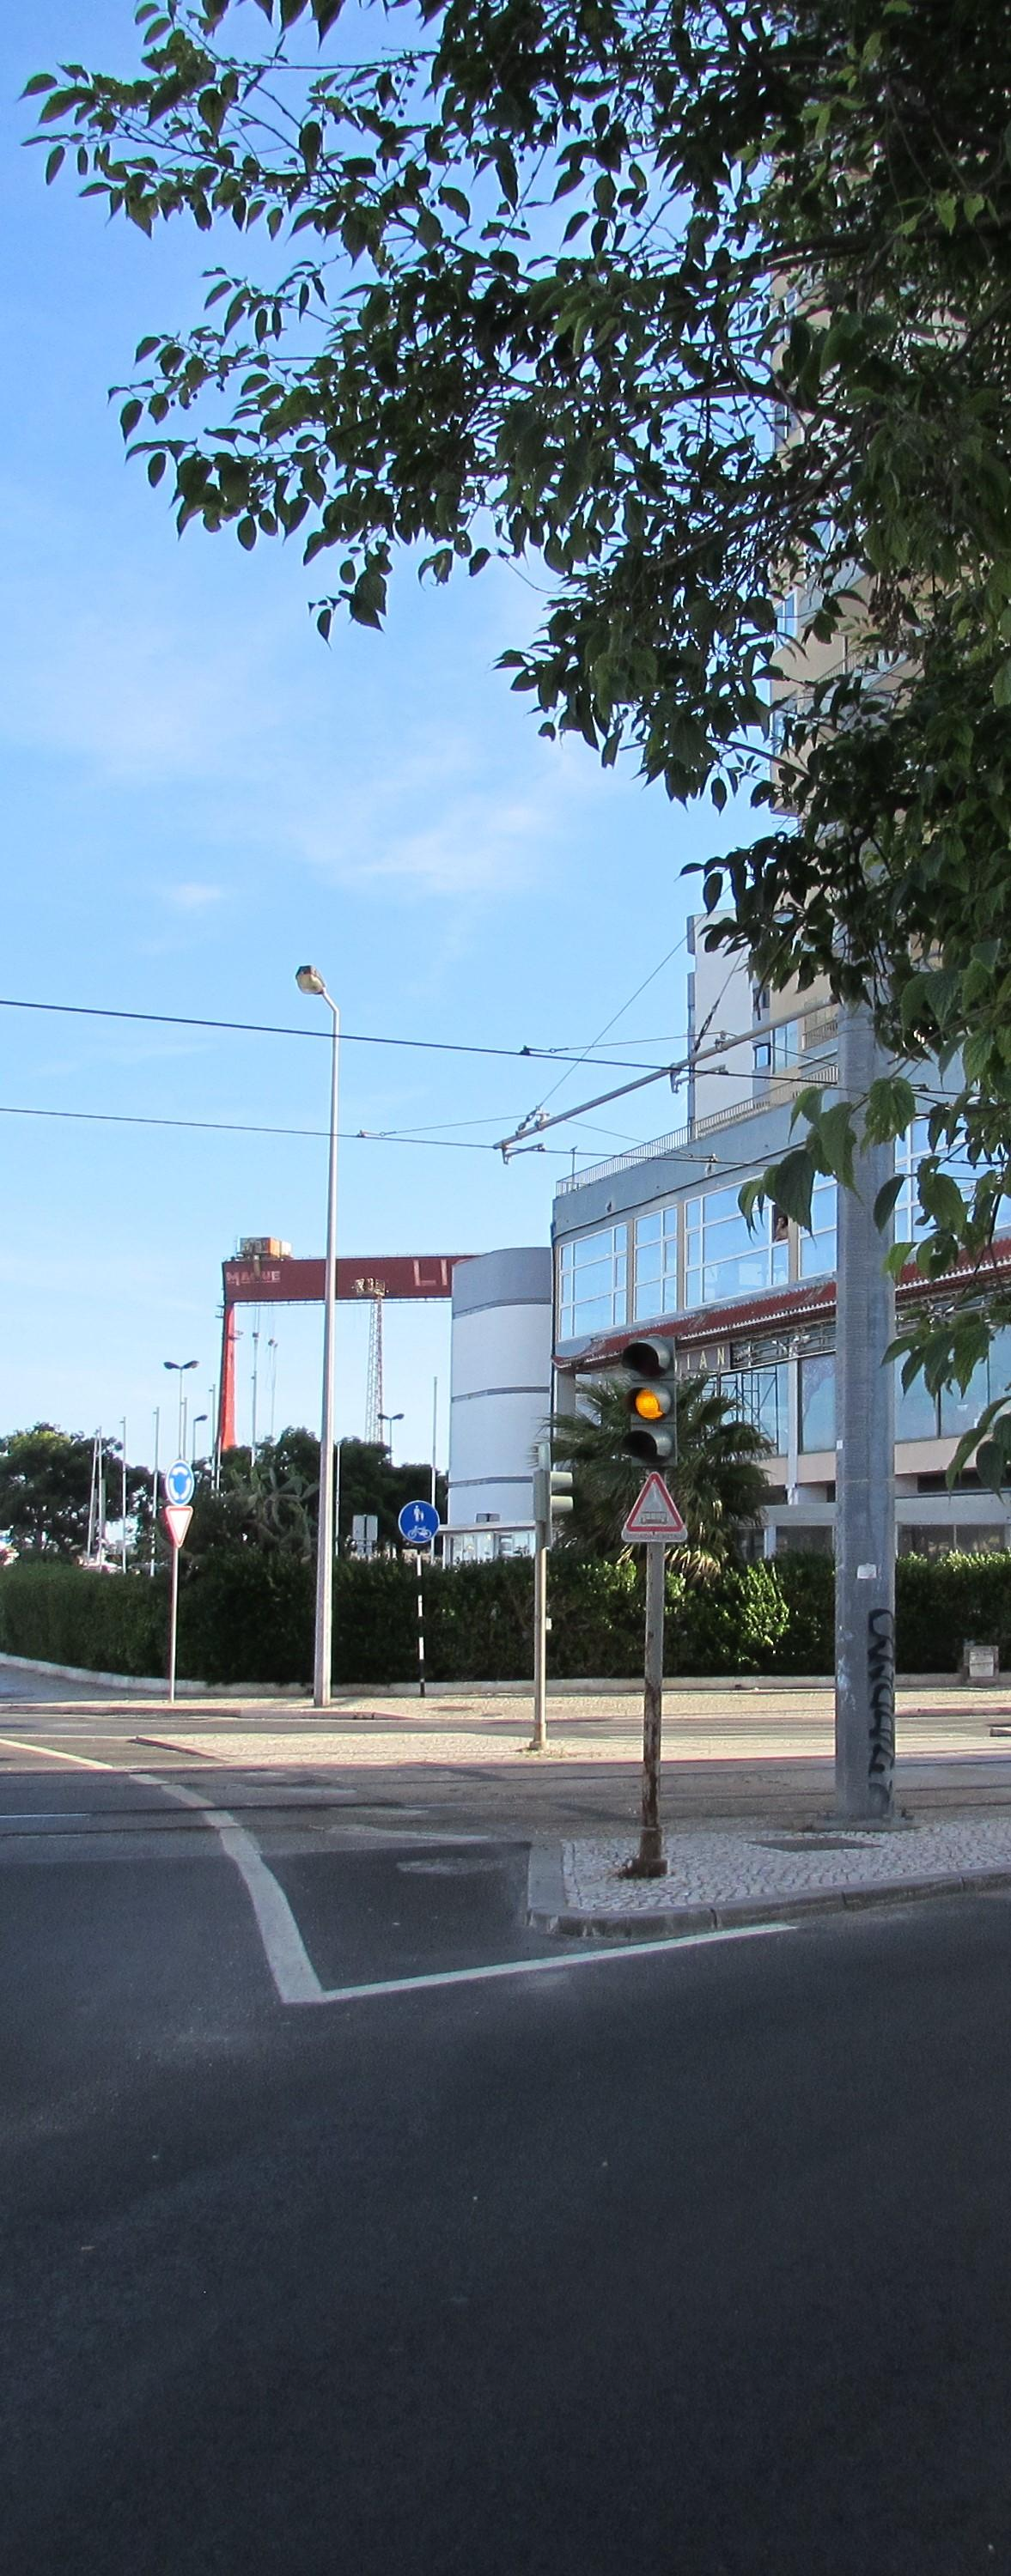yellow_light: (621, 1336, 677, 1467)
